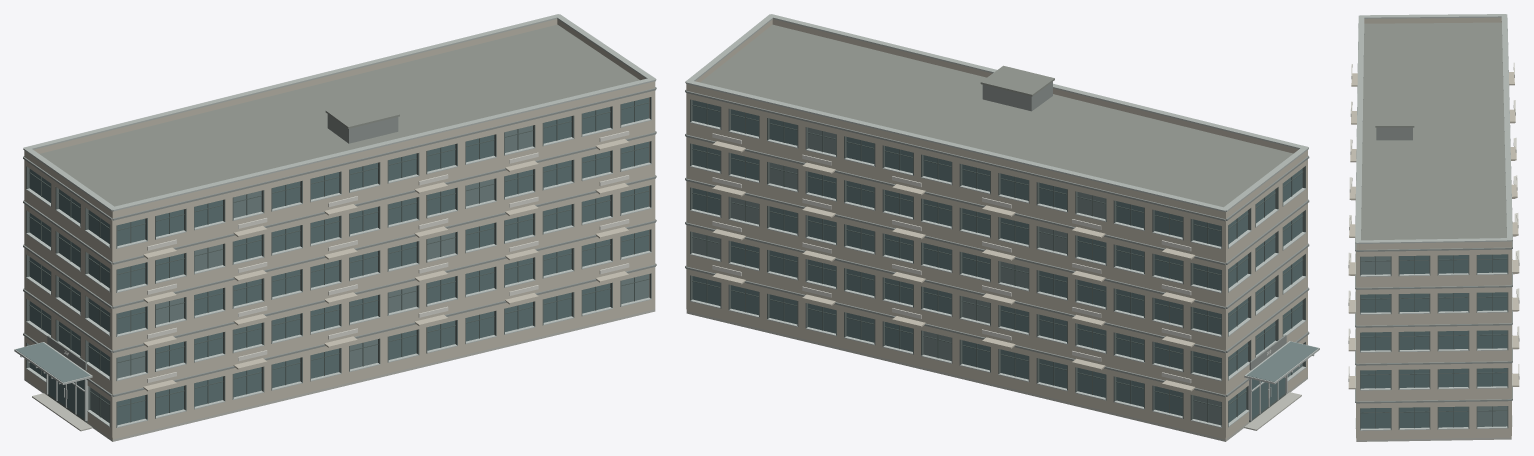
File: mapped_1135360039.glb
3 views of the same model, side by side, from view 1: azimuth 30°, elevation 25°; view 2: azimuth 150°, elevation 25°; view 3: azimuth 270°, elevation 25° (orthographic). The views are drawn at different scales.
Visible parts, largest first — view 1: mapped_1135360039_HousingWarm, mapped_1135360039_WindowGlass, mapped_1135360039_FacultyRoof, mapped_1135360039_WindowAluminium, mapped_1135360039_WindowReveal, mapped_1135360039_FacultyDarkPanel, mapped_1135360039_WindowGlassLight, mapped_1135360039_Teaching5TileJoint, mapped_1135360039_WindowRubber, mapped_1135360039_WhiteTrim, mapped_1135360039_EntryStone; view 2: mapped_1135360039_HousingWarm, mapped_1135360039_WindowGlass, mapped_1135360039_FacultyRoof, mapped_1135360039_WindowReveal, mapped_1135360039_WindowAluminium, mapped_1135360039_FacultyDarkPanel, mapped_1135360039_WindowGlassLight, mapped_1135360039_Teaching5TileJoint, mapped_1135360039_WindowRubber, mapped_1135360039_WhiteTrim, mapped_1135360039_EntryStone; view 3: mapped_1135360039_FacultyRoof, mapped_1135360039_HousingWarm, mapped_1135360039_WindowGlass, mapped_1135360039_Teaching5TileJoint, mapped_1135360039_FacultyDarkPanel, mapped_1135360039_WindowAluminium, mapped_1135360039_WindowReveal, mapped_1135360039_WindowRubber, mapped_1135360039_WindowGlassLight, mapped_1135360039_WhiteTrim, mapped_1135360039_EntryStone.
Boxes of the visible parts, <box> form: mapped_1135360039_HousingWarm: <box>24,19,655,439</box>; mapped_1135360039_WindowGlass: <box>29,97,649,425</box>; mapped_1135360039_FacultyRoof: <box>40,24,639,206</box>; mapped_1135360039_WindowAluminium: <box>14,118,651,427</box>; mapped_1135360039_WindowReveal: <box>26,97,651,427</box>; mapped_1135360039_FacultyDarkPanel: <box>23,87,656,396</box>; mapped_1135360039_WindowGlassLight: <box>16,125,649,422</box>; mapped_1135360039_Teaching5TileJoint: <box>23,14,656,211</box>; mapped_1135360039_WindowRubber: <box>29,101,649,422</box>; mapped_1135360039_WhiteTrim: <box>147,131,629,382</box>; mapped_1135360039_EntryStone: <box>24,309,655,441</box>; mapped_1135360039_HousingWarm: <box>686,19,1307,439</box>; mapped_1135360039_WindowGlass: <box>692,100,1302,422</box>; mapped_1135360039_FacultyRoof: <box>700,24,1293,207</box>; mapped_1135360039_WindowReveal: <box>690,99,1305,427</box>; mapped_1135360039_WindowAluminium: <box>690,121,1319,427</box>; mapped_1135360039_FacultyDarkPanel: <box>685,82,1309,397</box>; mapped_1135360039_WindowGlassLight: <box>692,127,1318,425</box>; mapped_1135360039_Teaching5TileJoint: <box>685,14,1308,211</box>; mapped_1135360039_WindowRubber: <box>692,103,1302,422</box>; mapped_1135360039_WhiteTrim: <box>712,133,1191,383</box>; mapped_1135360039_EntryStone: <box>686,311,1307,441</box>; mapped_1135360039_FacultyRoof: <box>1361,22,1506,240</box>; mapped_1135360039_HousingWarm: <box>1348,17,1519,439</box>; mapped_1135360039_WindowGlass: <box>1360,254,1507,428</box>; mapped_1135360039_Teaching5TileJoint: <box>1355,14,1512,243</box>; mapped_1135360039_FacultyDarkPanel: <box>1355,23,1512,403</box>; mapped_1135360039_WindowAluminium: <box>1355,261,1512,430</box>; mapped_1135360039_WindowReveal: <box>1360,254,1508,430</box>; mapped_1135360039_WindowRubber: <box>1360,254,1507,428</box>; mapped_1135360039_WindowGlassLight: <box>1360,256,1507,426</box>; mapped_1135360039_WhiteTrim: <box>1348,62,1519,381</box>; mapped_1135360039_EntryStone: <box>1356,437,1511,441</box>.
Bounding box in the file's own units: 46.61 × 19.28 × 13.99.
